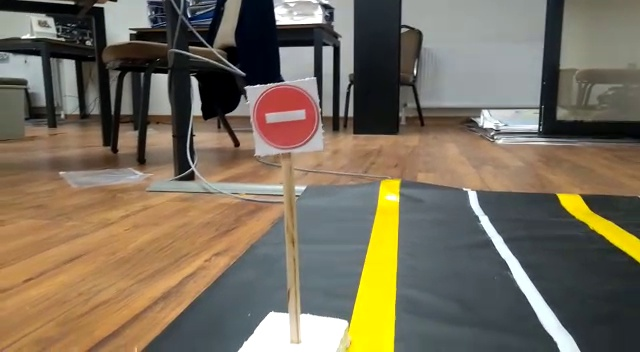girisi_olmayan_yol: (248, 82, 320, 149)
